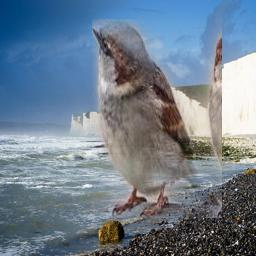Sparrow: (92, 19, 222, 218)
